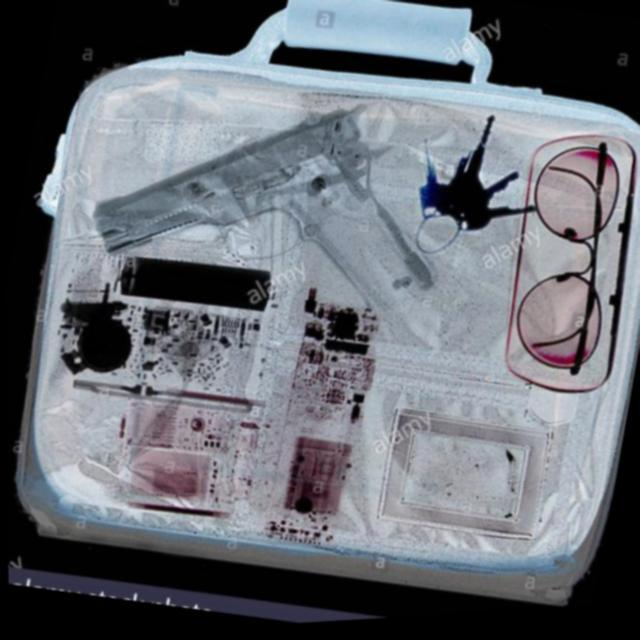weapon: (79, 64, 464, 352)
